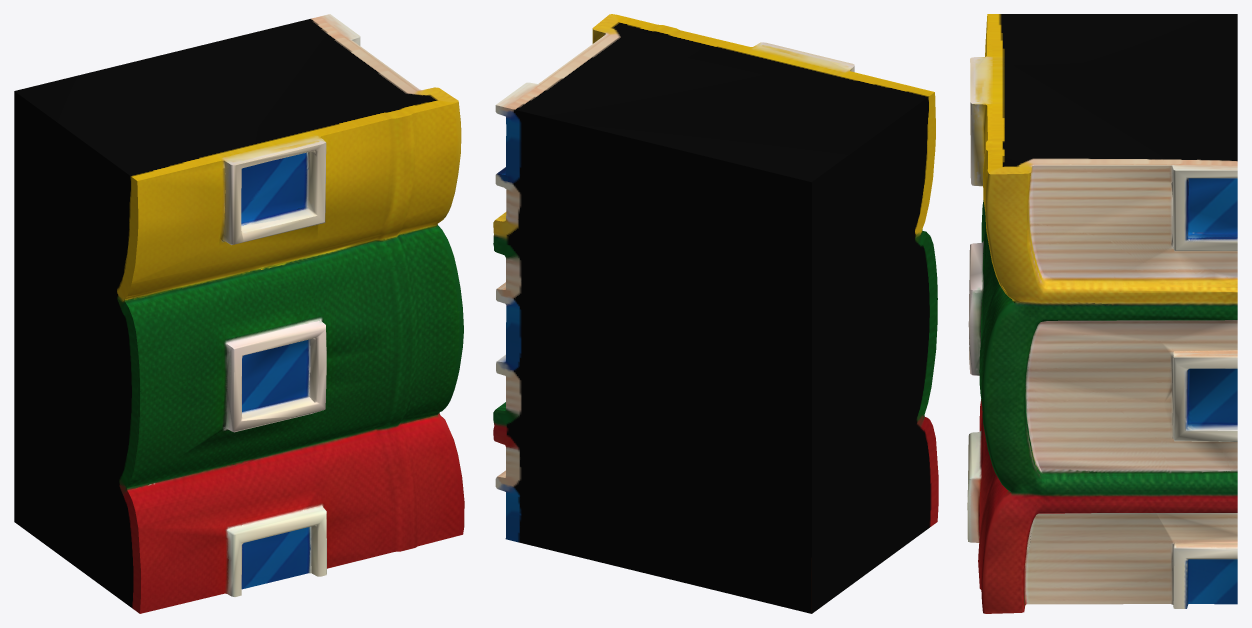
File: 6-upper-walls-front-right.fbx
The picture shows the model from 3 angles, left to right: view 1: azimuth 30°, elevation 25°; view 2: azimuth 150°, elevation 25°; view 3: azimuth 270°, elevation 25°; orthographic projection.
Visible parts, largest first — view 1: upper-walls-front-right; view 2: upper-walls-front-right; view 3: upper-walls-front-right.
Part boxes in pixels (left/top/right/bottom): upper-walls-front-right: left=14, top=14, right=464, bottom=613; upper-walls-front-right: left=493, top=14, right=938, bottom=613; upper-walls-front-right: left=967, top=14, right=1237, bottom=613.
Bounding box in the file's own units: 4321 × 5466 × 3051.
Materials: 1 (1 with a texture image).
